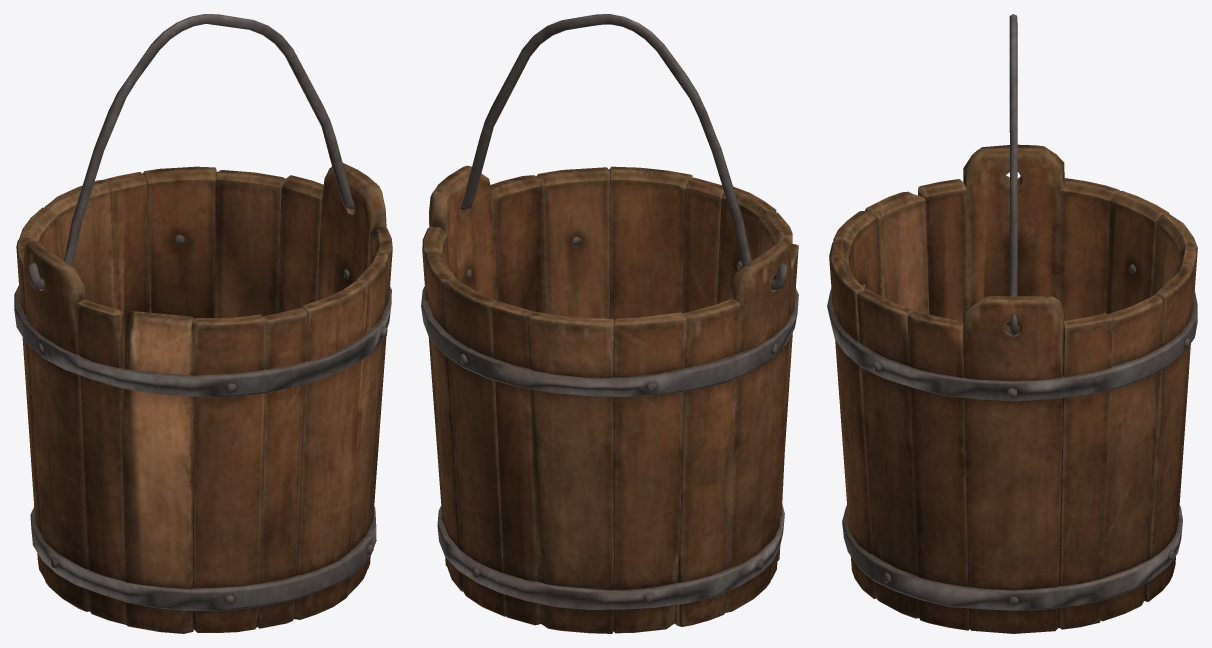
File: wooden_bucket_01.glb
3 views of the same model, side by side, from view 1: azimuth 30°, elevation 25°; view 2: azimuth 150°, elevation 25°; view 3: azimuth 270°, elevation 25° (orthographic).
Visible parts, largest first — view 1: wooden_bucket_01; view 2: wooden_bucket_01; view 3: wooden_bucket_01.
Boxes of the visible parts, x1,y1,x2,y2 form: wooden_bucket_01: [14, 14, 392, 633]; wooden_bucket_01: [421, 14, 798, 633]; wooden_bucket_01: [827, 14, 1197, 633].
Size of the model in its own units: 0.3663 by 0.5499 by 0.3419.
1 material, 1 textured.
